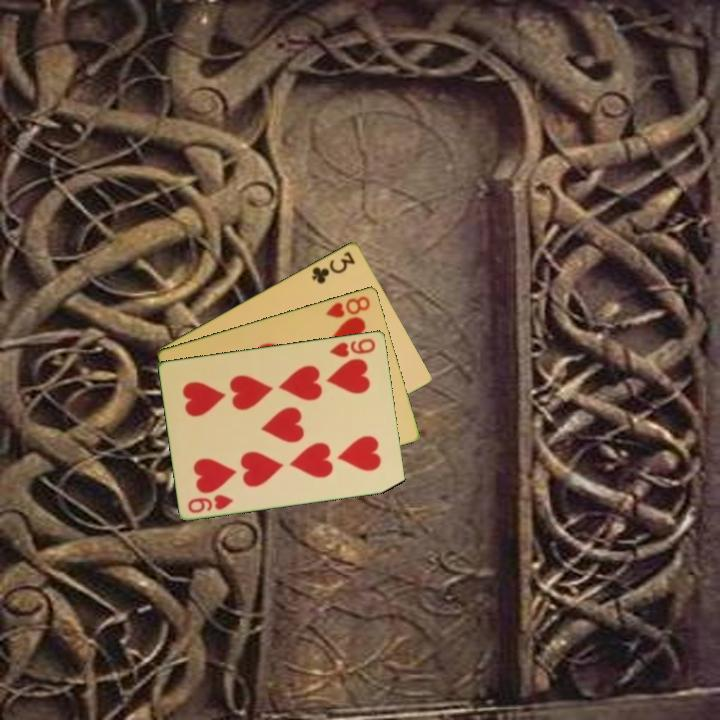3c: (308, 247, 358, 287)
8h: (322, 292, 373, 321)
9h: (326, 334, 378, 360), (185, 490, 236, 516)
